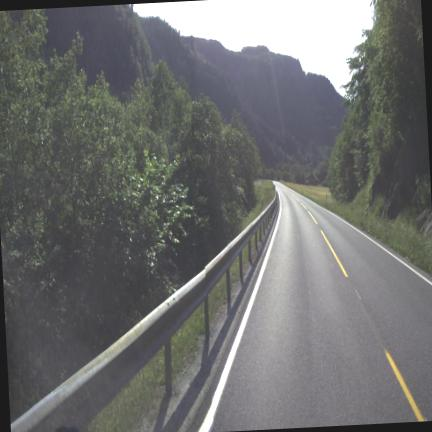Road: (212, 184, 431, 430)
